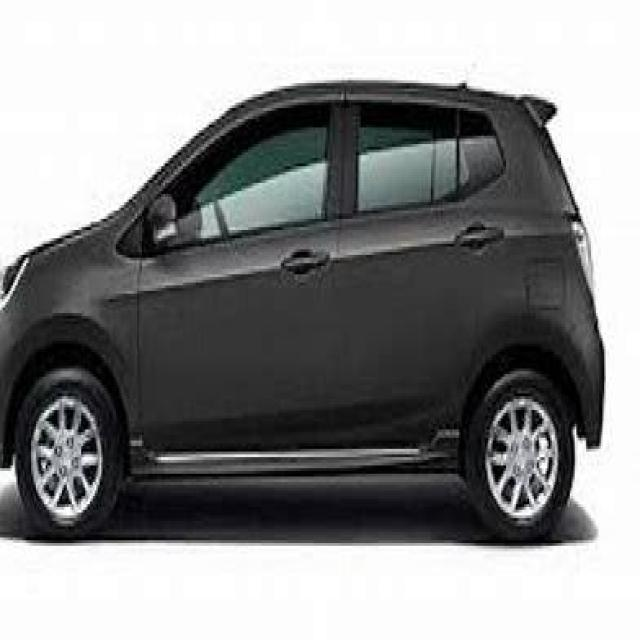PeroduaAxia: (1, 77, 607, 543)
